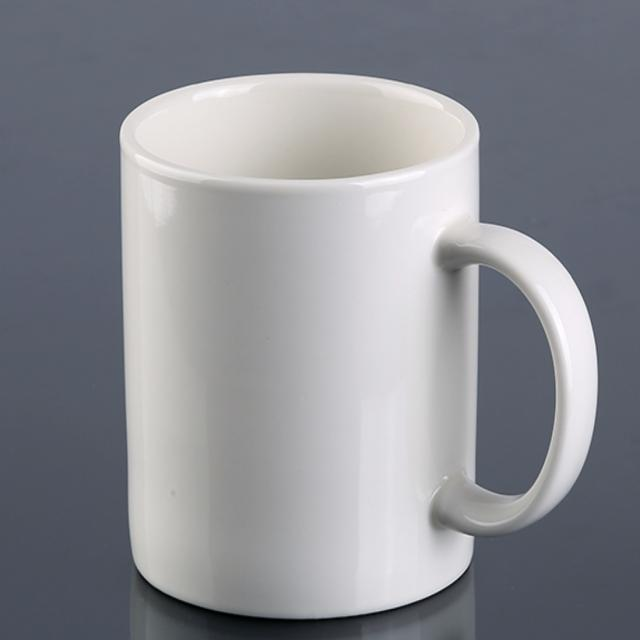recyclable: (91, 51, 614, 629)
